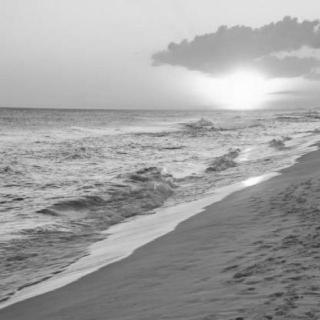other: (193, 61, 277, 110)
